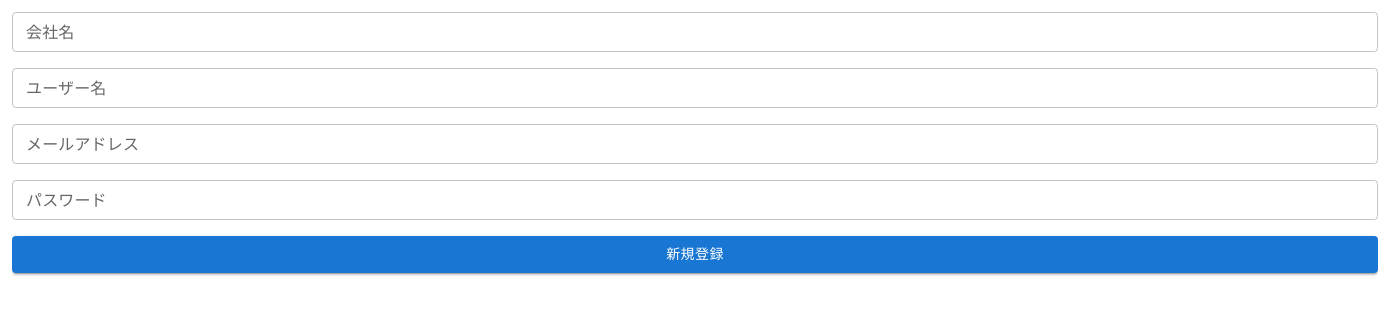
Test: SignupForm › AUTH-FE-032: company_name が空のとき必須エラーが表示される
This screenshot has width=1390, height=316.
Click the field labelled "会社名": click(695, 32) [12,12,1378,52]
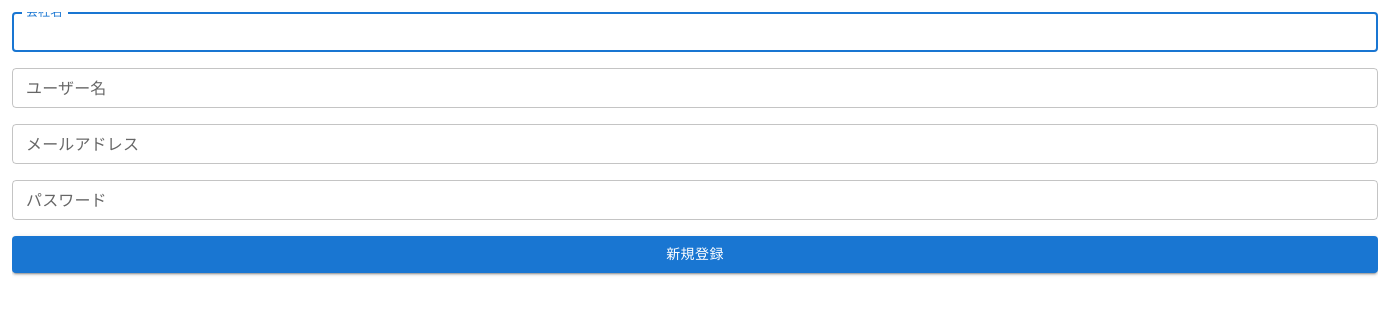
Press Tab
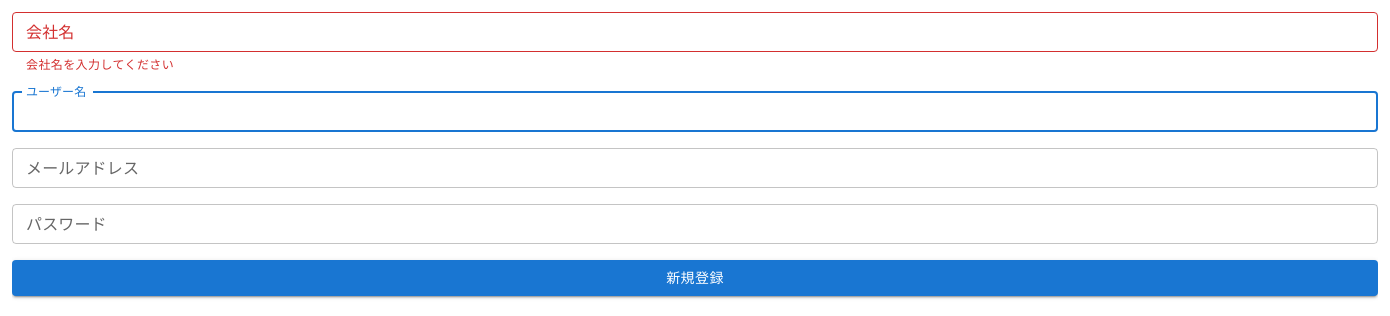
expect the text "会社名を入力してください" is shown: met, box [26,58,174,72]
